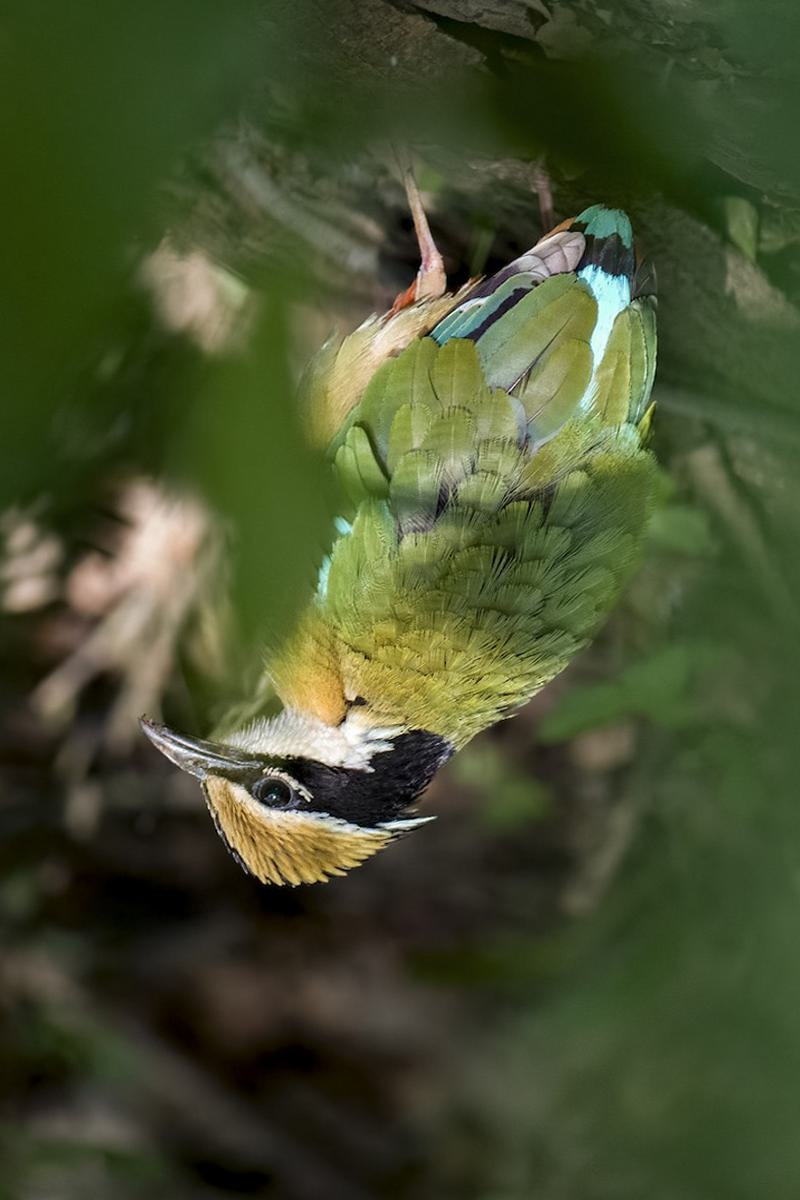pitta: (125, 215, 700, 940)
